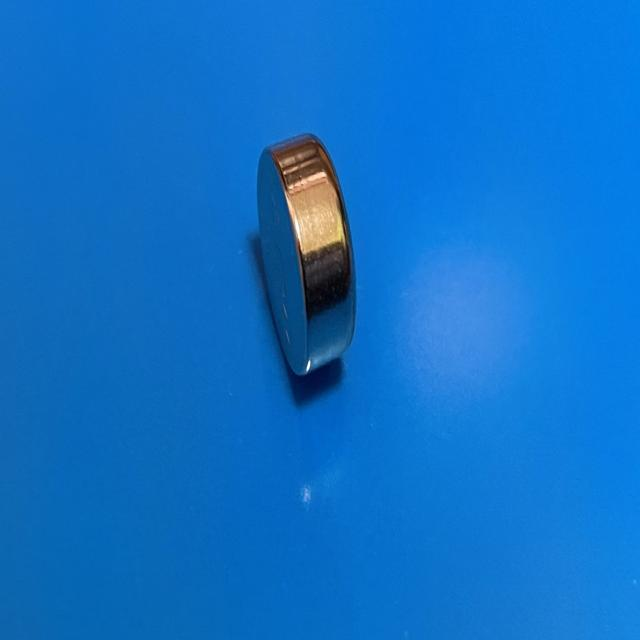COIN: (255, 124, 358, 388)
